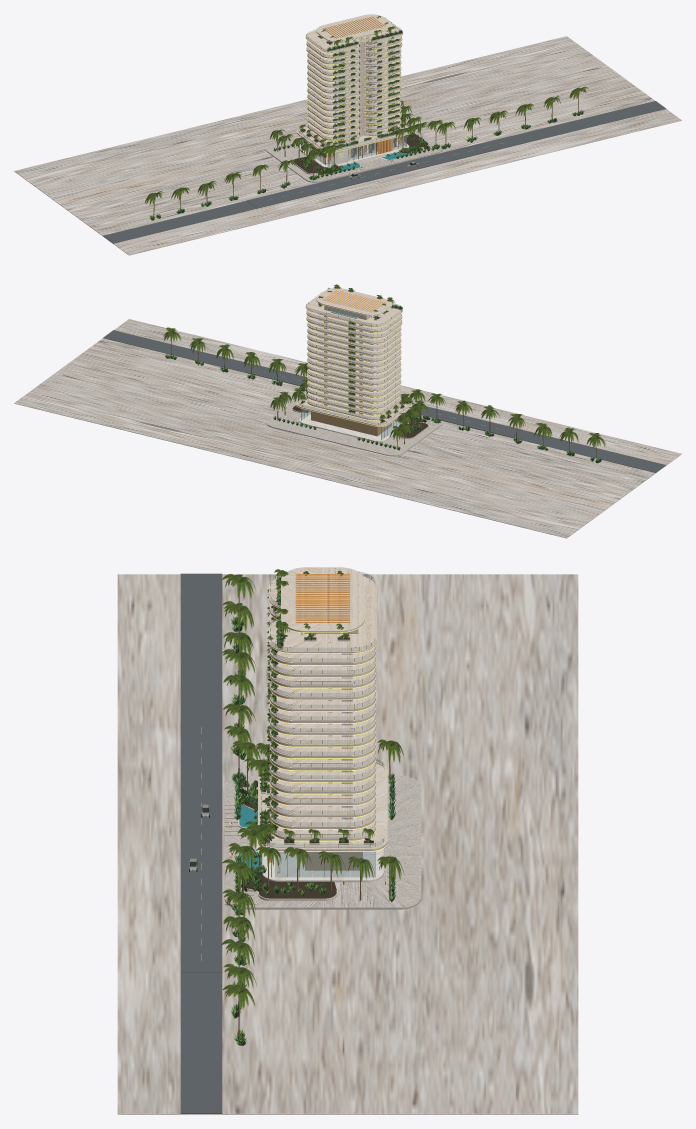
File: canto-do-forte.glb
The picture shows the model from 3 angles, top to bottom: view 1: azimuth 30°, elevation 25°; view 2: azimuth 150°, elevation 25°; view 3: azimuth 270°, elevation 25°; orthographic projection. The views are drawn at different scales.
Parts seen in each view (by area): view 1: CDF_paving, CDF_ivory, CDF_road, CDF_palm_frond, CDF_balustrade, CDF_stone, CDF_led, CDF_foliage, CDF_plant_cluster, CDF_foliage_light, CDF_window, CDF_foliage_deep (+6 smaller); view 2: CDF_paving, CDF_ivory, CDF_road, CDF_palm_frond, CDF_balustrade, CDF_led, CDF_marble, CDF_room, CDF_foliage, CDF_window, CDF_wood, CDF_stone (+4 smaller); view 3: CDF_paving, CDF_ivory, CDF_road, CDF_palm_frond, CDF_balustrade, CDF_wood, CDF_led, CDF_foliage, CDF_marble, CDF_foliage_light, CDF_window, CDF_plant_cluster (+4 smaller).
Part boxes in pixels (<box>): CDF_paving: <box>14,36,681,255</box>; CDF_ivory: <box>296,14,412,152</box>; CDF_road: <box>103,101,666,243</box>; CDF_palm_frond: <box>145,16,588,204</box>; CDF_balustrade: <box>298,17,408,148</box>; CDF_stone: <box>293,31,428,174</box>; CDF_led: <box>294,30,411,164</box>; CDF_foliage: <box>149,30,582,219</box>; CDF_plant_cluster: <box>300,31,430,175</box>; CDF_foliage_light: <box>150,30,583,220</box>; CDF_window: <box>301,33,406,165</box>; CDF_foliage_deep: <box>149,30,583,220</box>; CDF_paving: <box>14,319,681,538</box>; CDF_ivory: <box>296,288,412,426</box>; CDF_road: <box>103,330,665,472</box>; CDF_palm_frond: <box>163,284,605,448</box>; CDF_balustrade: <box>298,291,409,424</box>; CDF_led: <box>294,302,410,426</box>; CDF_marble: <box>299,311,408,442</box>; CDF_room: <box>311,326,391,436</box>; CDF_foliage: <box>165,288,601,462</box>; CDF_window: <box>301,314,406,439</box>; CDF_wood: <box>323,290,385,414</box>; CDF_stone: <box>292,305,428,439</box>; CDF_paving: <box>117,574,578,1114</box>; CDF_ivory: <box>258,567,387,851</box>; CDF_road: <box>180,573,222,1113</box>; CDF_palm_frond: <box>221,569,404,1009</box>; CDF_balustrade: <box>265,572,384,847</box>; CDF_wood: <box>229,574,349,873</box>; CDF_led: <box>190,603,387,881</box>; CDF_foliage: <box>230,575,395,1045</box>; CDF_marble: <box>238,625,383,882</box>; CDF_foliage_light: <box>231,574,394,1045</box>; CDF_window: <box>275,852,374,876</box>; CDF_plant_cluster: <box>238,574,372,891</box>.
Bounding box in the file's own units: 305 × 65.74 × 110.
33 materials, 10 textured.
